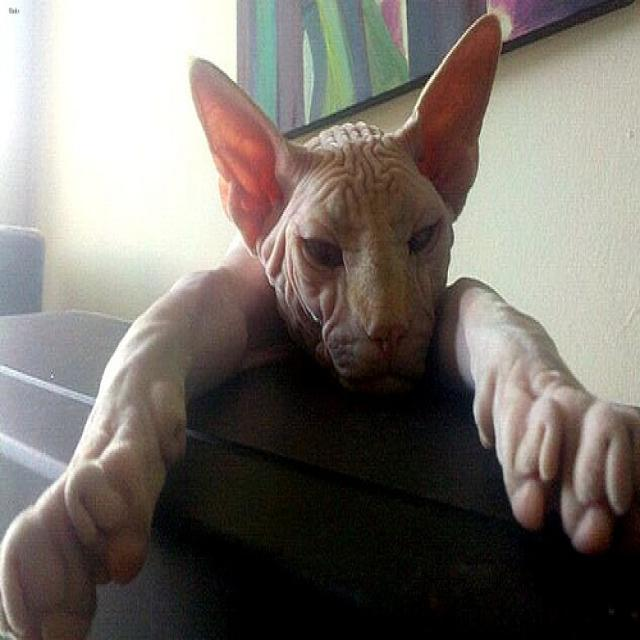Sphynx: (187, 10, 498, 391)
